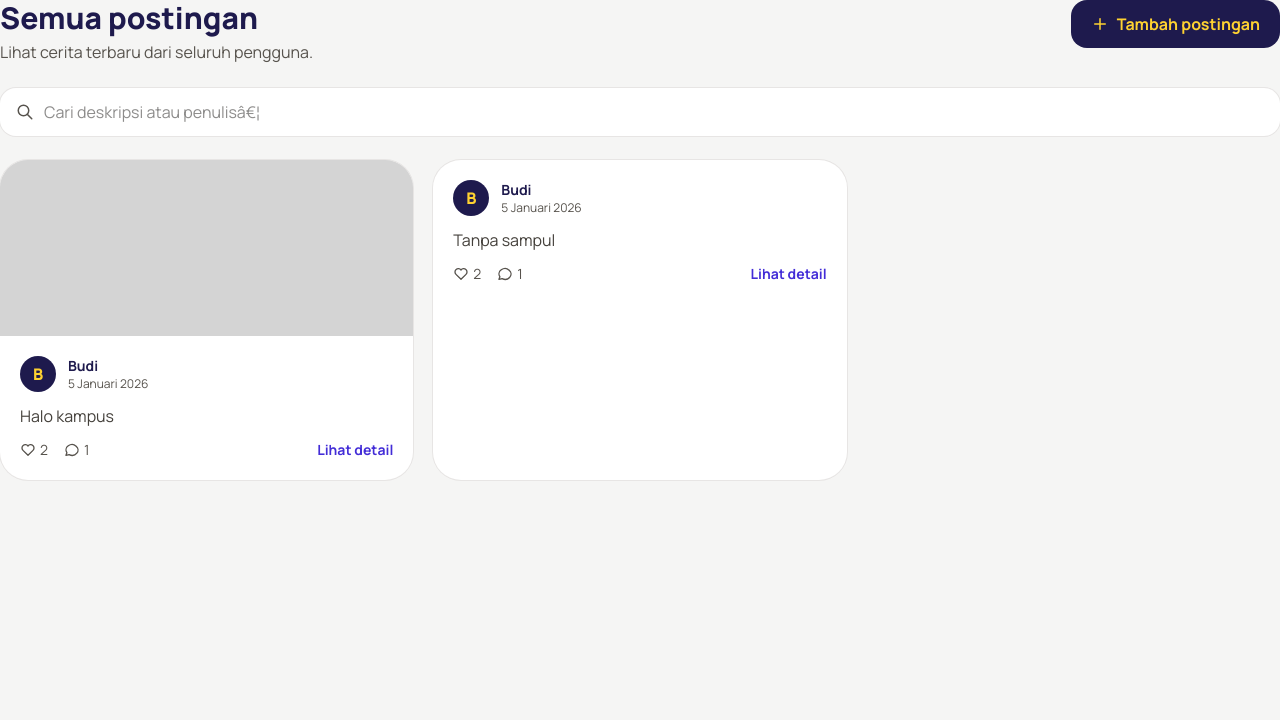
Test: HomePage › menutup modal tambah tanpa menyimpan
The image size is (1280, 720).
expect the text "Halo kampus" is shown: met, box [20,405,114,427]
Click the button "Tambah postingan" at (1175,24), box [1071,0,1279,48]
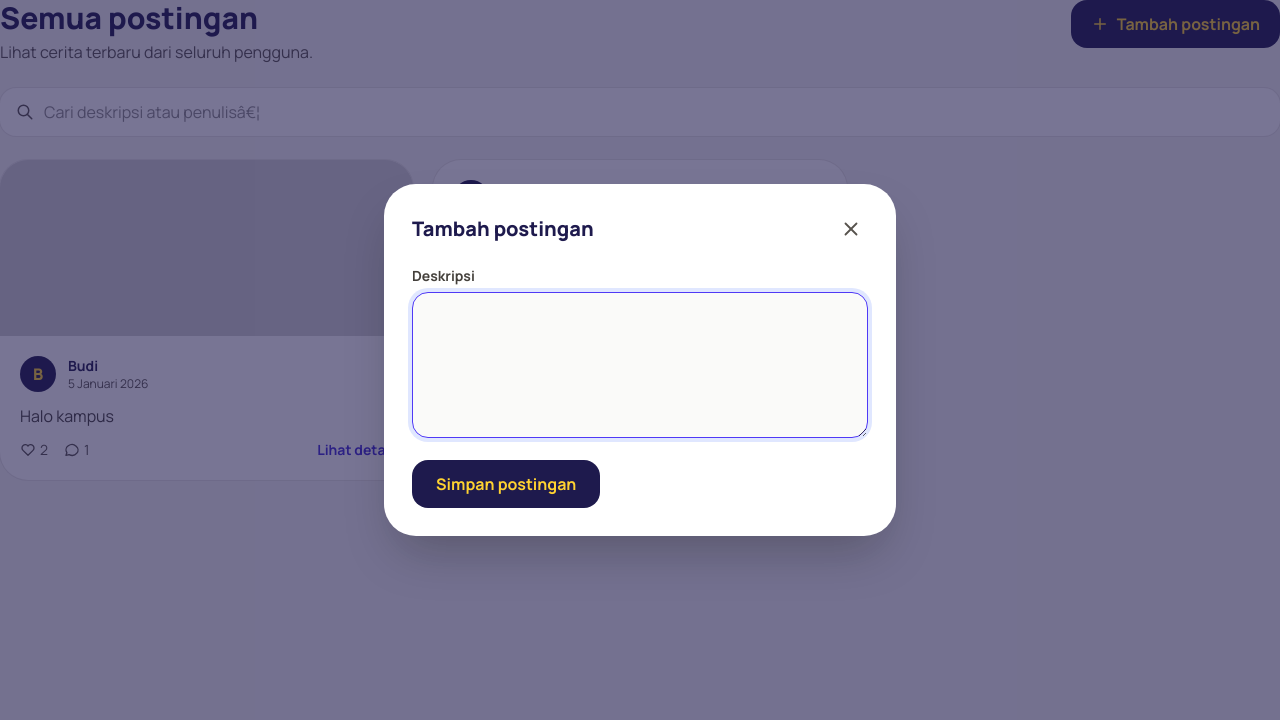
Click the button named "Tutup" at (851,229), box [834,212,868,246]
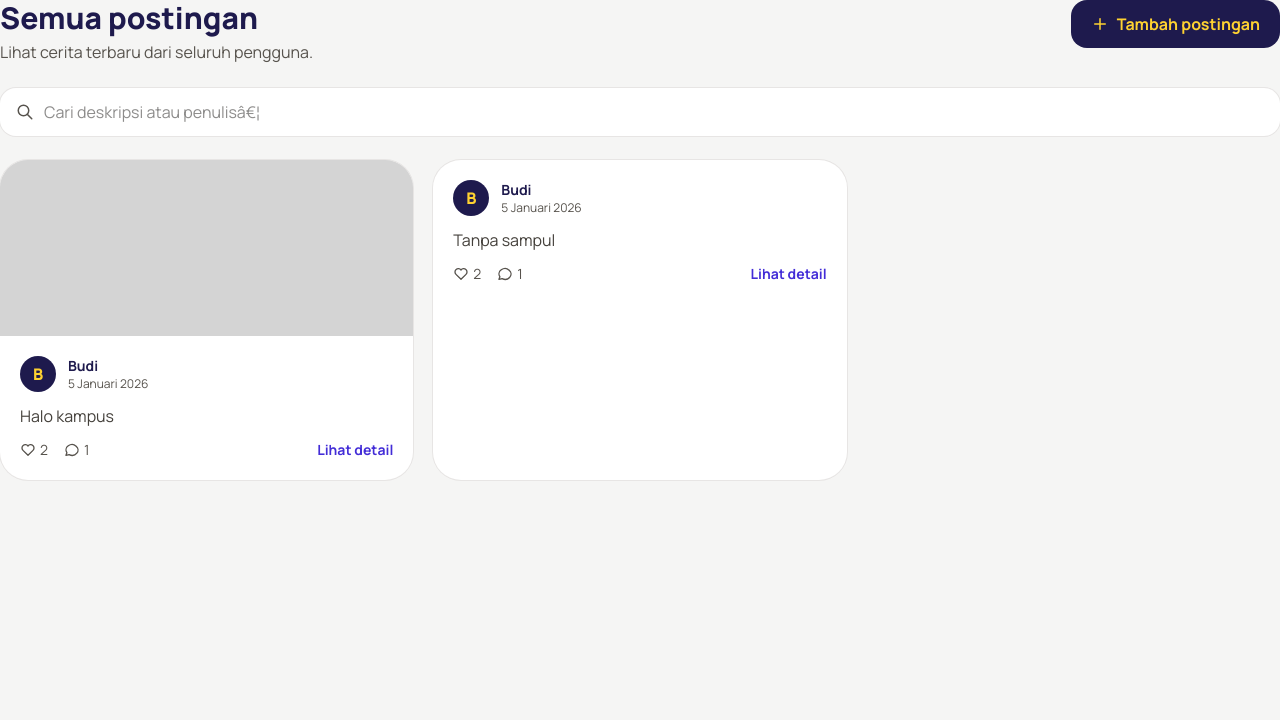
expect the dialog is gone: met
